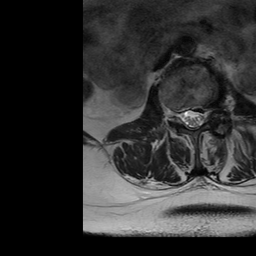CCS_normal: (188, 103, 196, 134)
LFS_normal: (205, 104, 212, 127)
LLS_normal: (197, 103, 204, 130)
RFS_normal: (171, 105, 181, 127)
RLS_normal: (180, 105, 188, 130)
